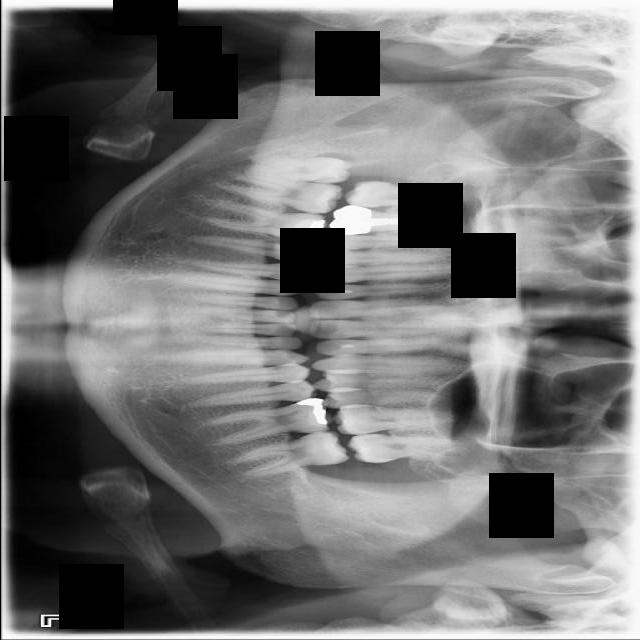52: (274, 393, 335, 445), (279, 211, 327, 247), (327, 205, 372, 235), (314, 339, 365, 356), (314, 284, 359, 299)
73: (365, 205, 453, 233), (55, 614, 80, 622)
BioHorizons Implant: (347, 434, 469, 463)
Blue Sky Bio Implant: (229, 427, 350, 480)
Caries: (343, 181, 458, 208)
Implant: (216, 172, 343, 217)
Keystone Dental Implant: (245, 153, 350, 185)
